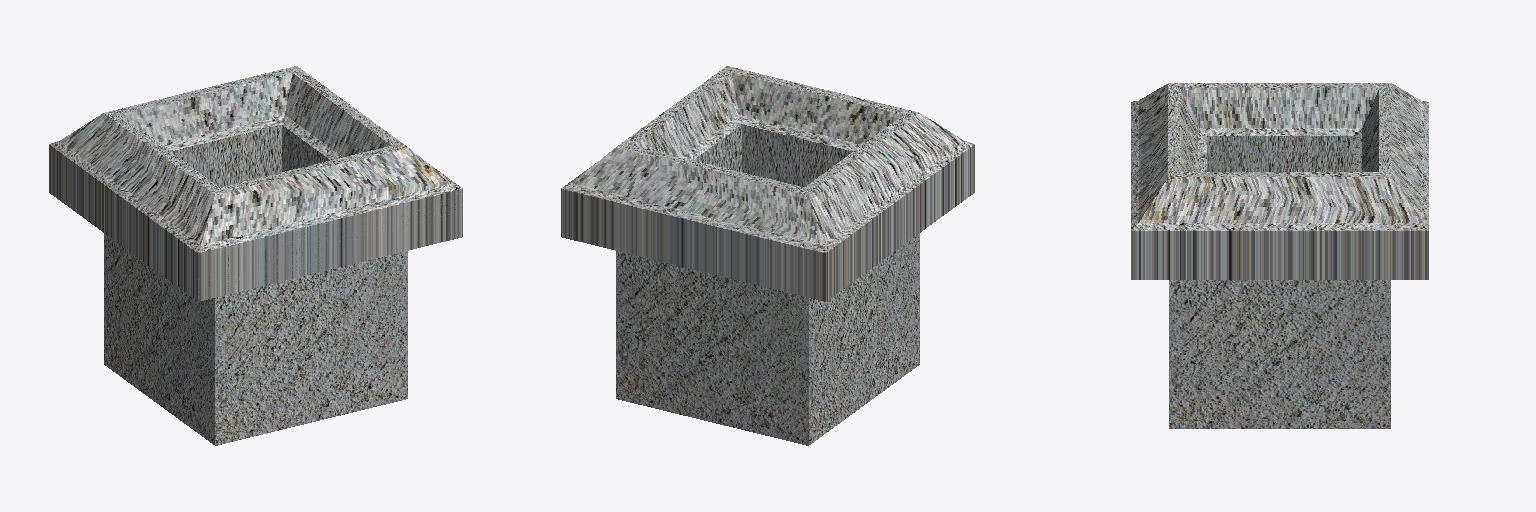
3 views of the same model, side by side, from view 1: azimuth 30°, elevation 25°; view 2: azimuth 150°, elevation 25°; view 3: azimuth 270°, elevation 25° (orthographic).
Size of the model in its own units: 2.75 by 2.5 by 2.69.
1 materials, 1 textured.